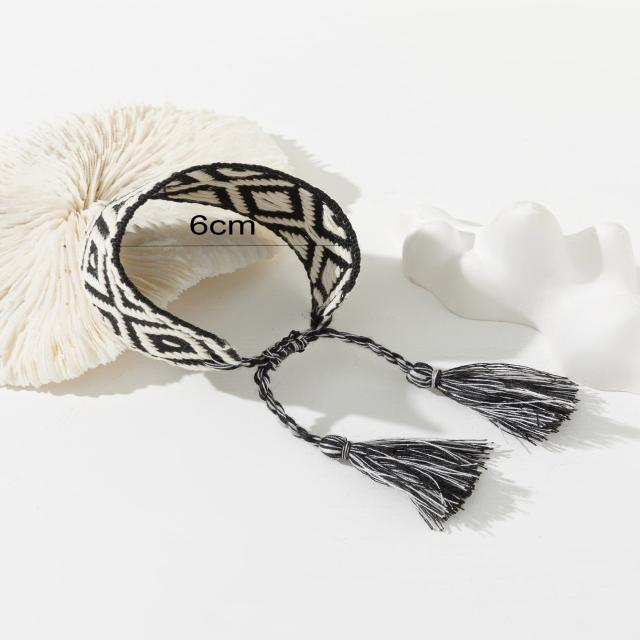bracelet: (70, 133, 640, 544)
